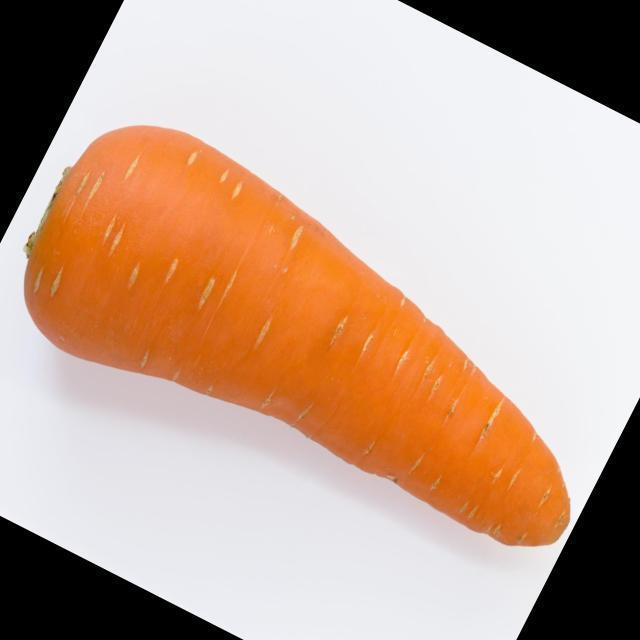carrot: (1, 76, 640, 618)
